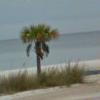Palm tree: (18, 20, 54, 77)
